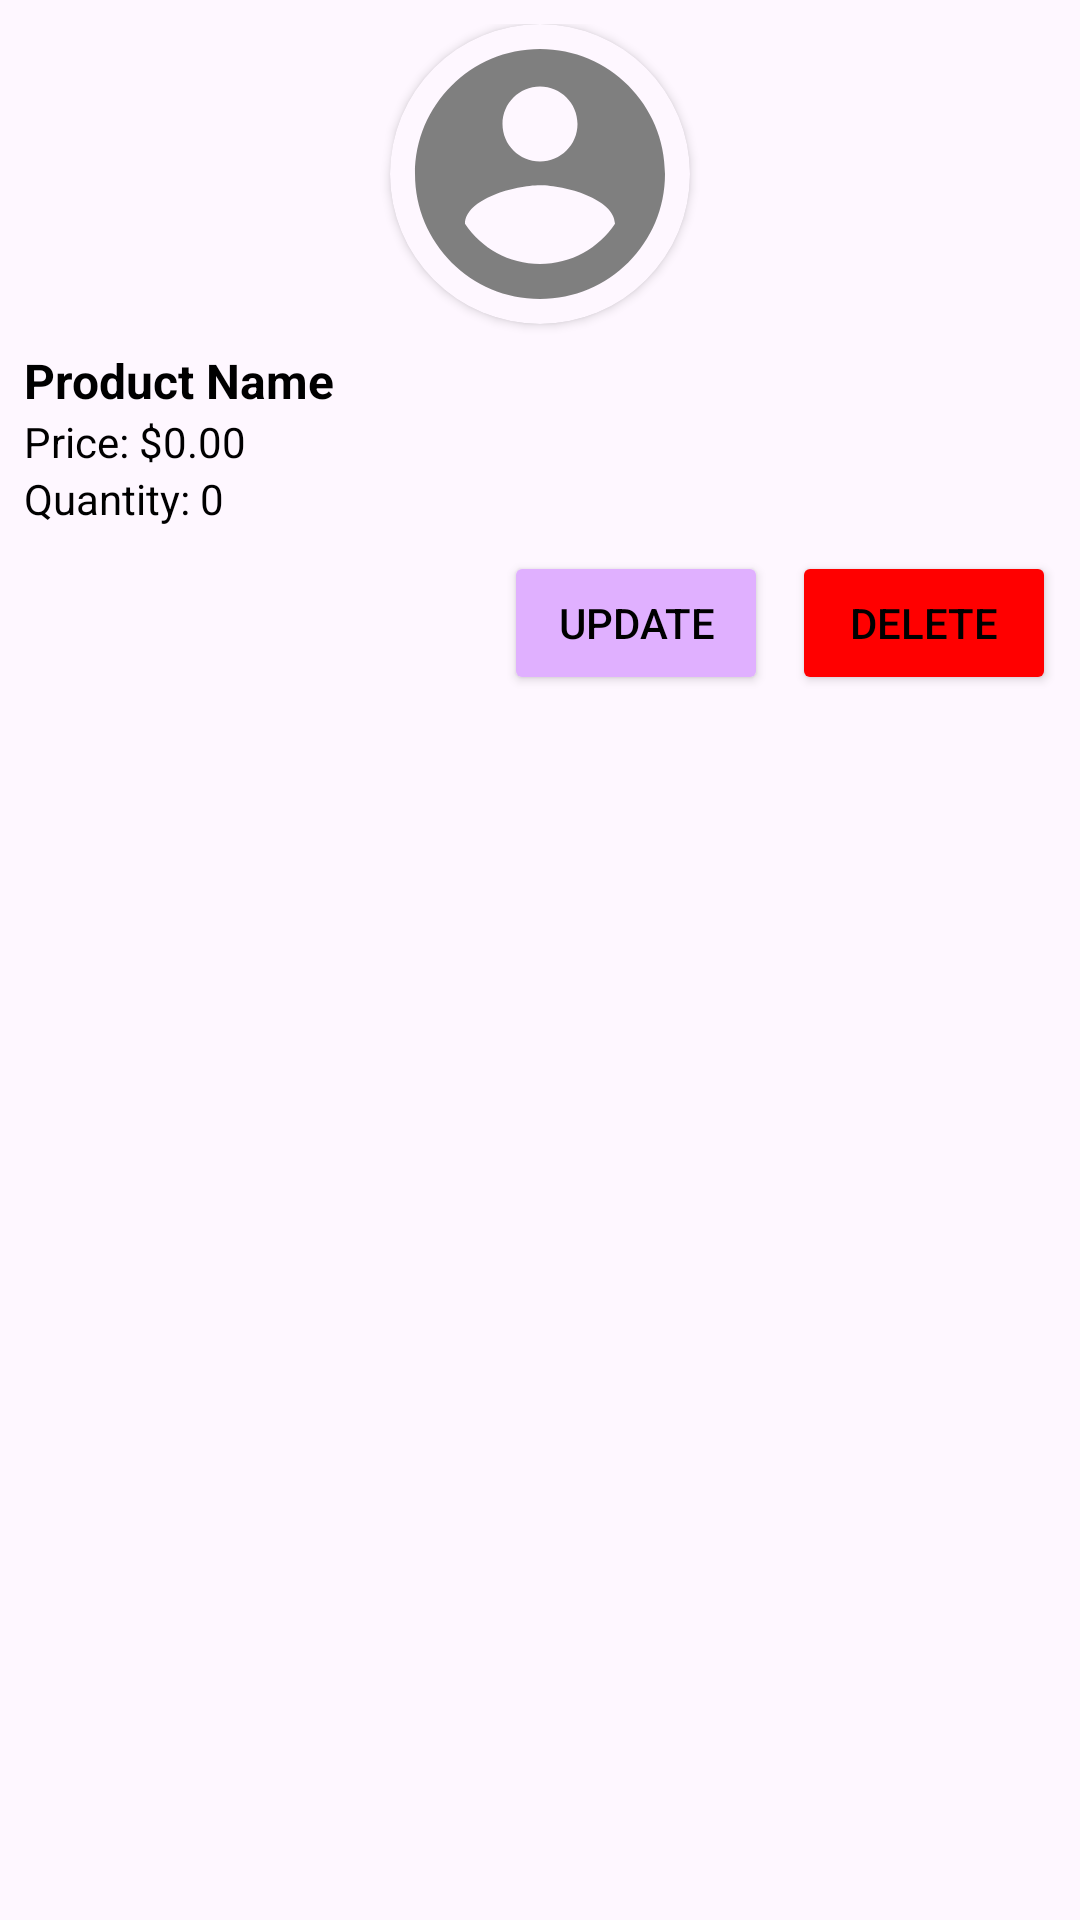

Icon bounding boxes for this 1080w x 1920h phone screenshot, format (x1, y1, x2, y2):
account circle: (409, 49, 671, 324)
